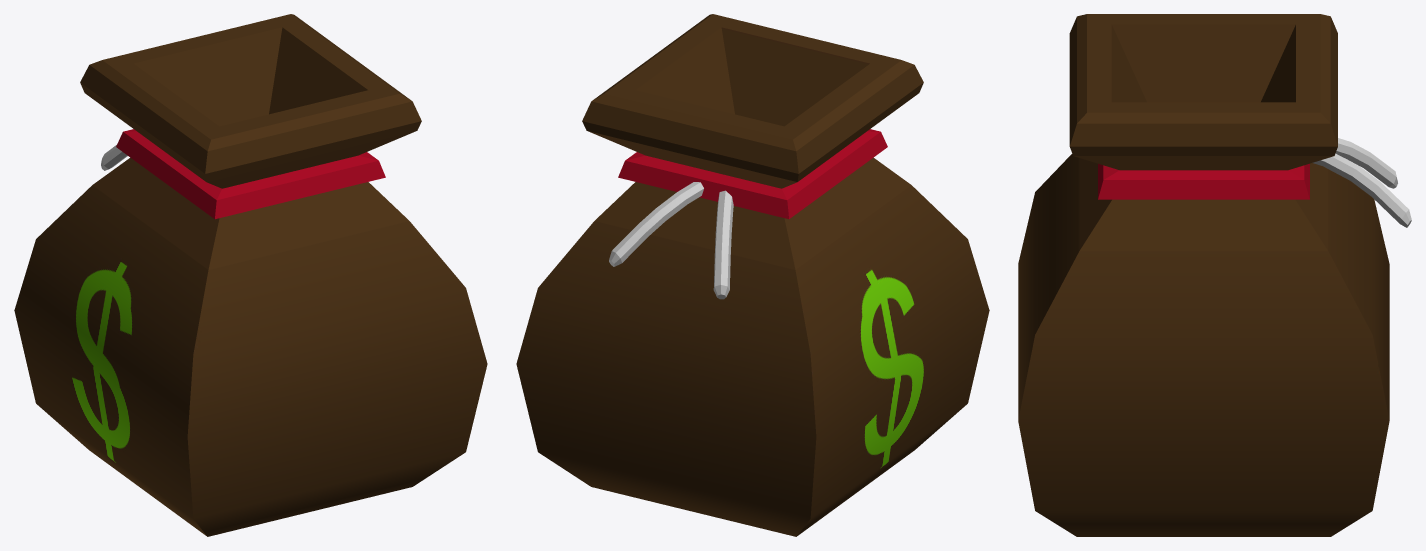
Rendered from CoinBag.fbx.
3 renders of one model, left to right at view 1: azimuth 30°, elevation 25°; view 2: azimuth 150°, elevation 25°; view 3: azimuth 270°, elevation 25°, orthographic. The views are drawn at different scales.
Visible parts, largest first — view 1: pCube1; view 2: pCube1, pasted__pasted__pCylinder1, pasted__pCylinder1; view 3: pCube1, pasted__pasted__pCylinder1, pasted__pCylinder1.
Boxes of the visible parts, <box> form: pCube1: <box>14,14,487,536</box>; pCube1: <box>516,14,989,536</box>; pasted__pasted__pCylinder1: <box>609,182,703,266</box>; pasted__pCylinder1: <box>713,190,733,299</box>; pCube1: <box>1018,14,1389,536</box>; pasted__pasted__pCylinder1: <box>1312,153,1411,227</box>; pasted__pCylinder1: <box>1335,138,1397,188</box>.
Bounding box in the file's own units: 4.54 × 5.66 × 4.81.
